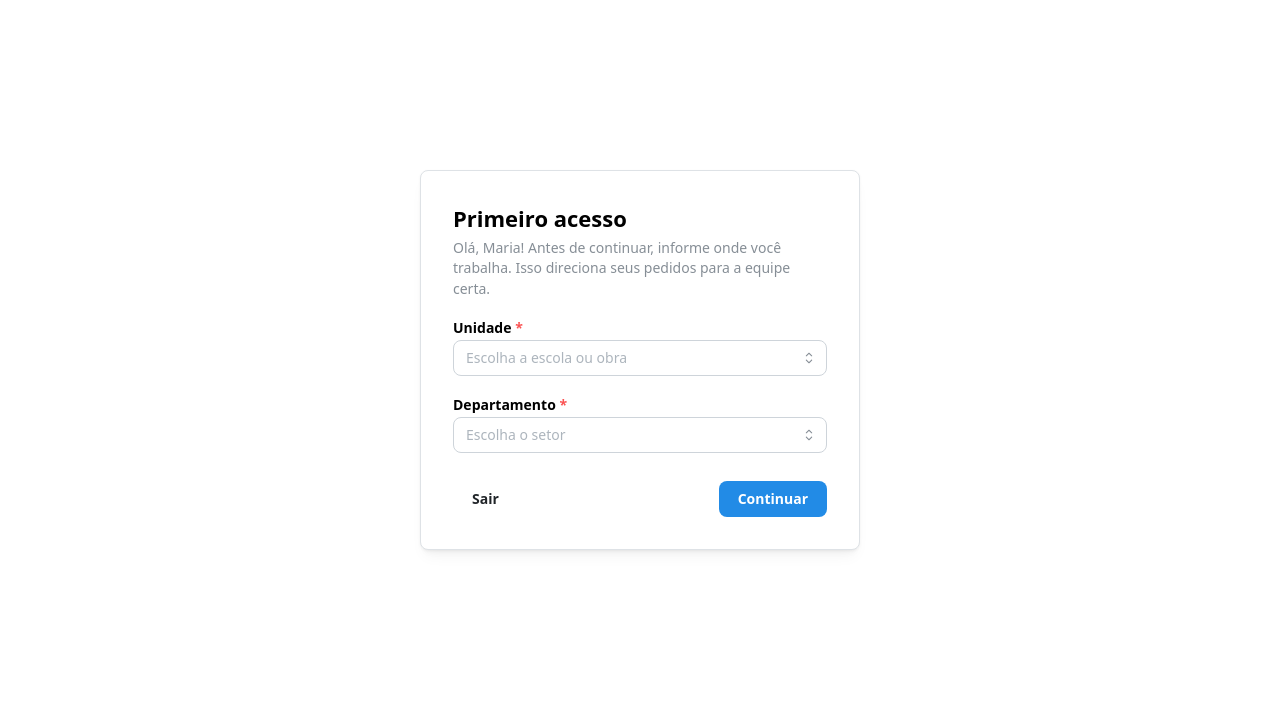
Test: Primeiro acesso (T16) › após preencher, envia PATCH /api/me e acessa o portal
Expected: the heading "Primeiro acesso" is shown, [453,203,627,233]
What coordinates should you click on to do the following:
click the dropdown labelled "Unidade *"
I would click on:
 (640, 358)
Its box is [453,340,827,376].
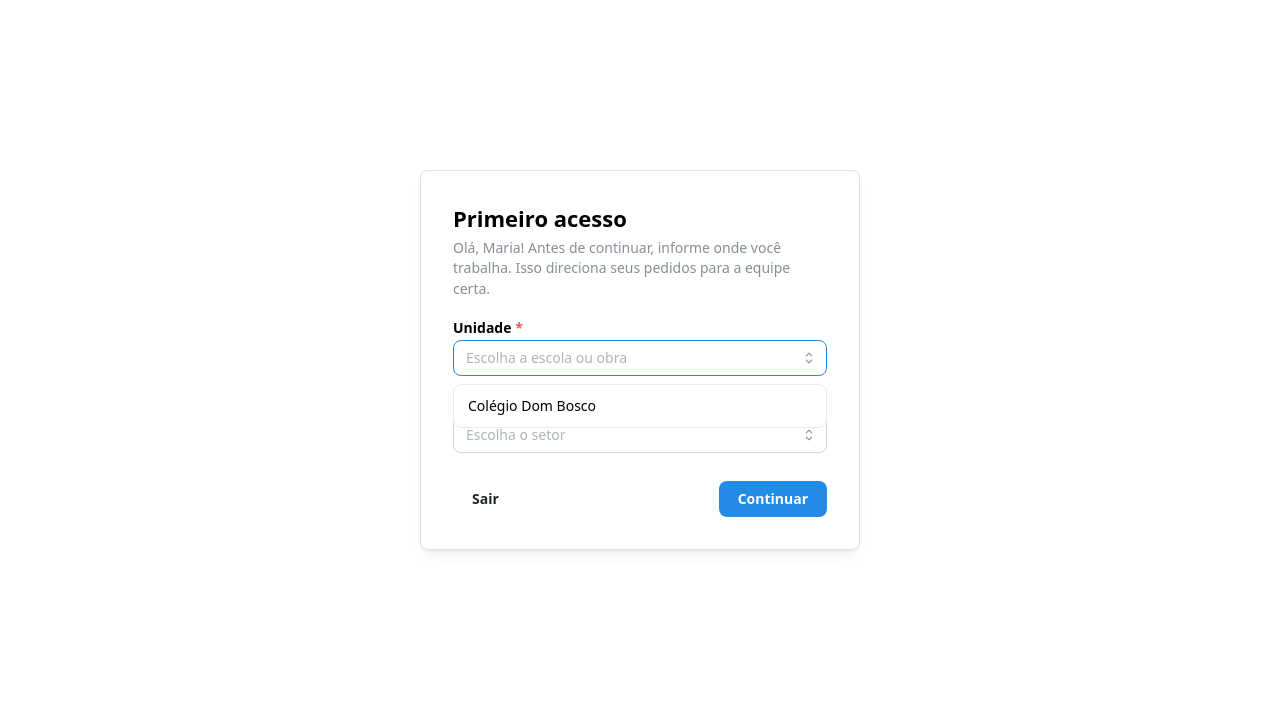
What coordinates should you click on to do the following:
click the option "Colégio Dom Bosco"
I would click on:
 (532, 405)
Its box is [468,396,596,415].
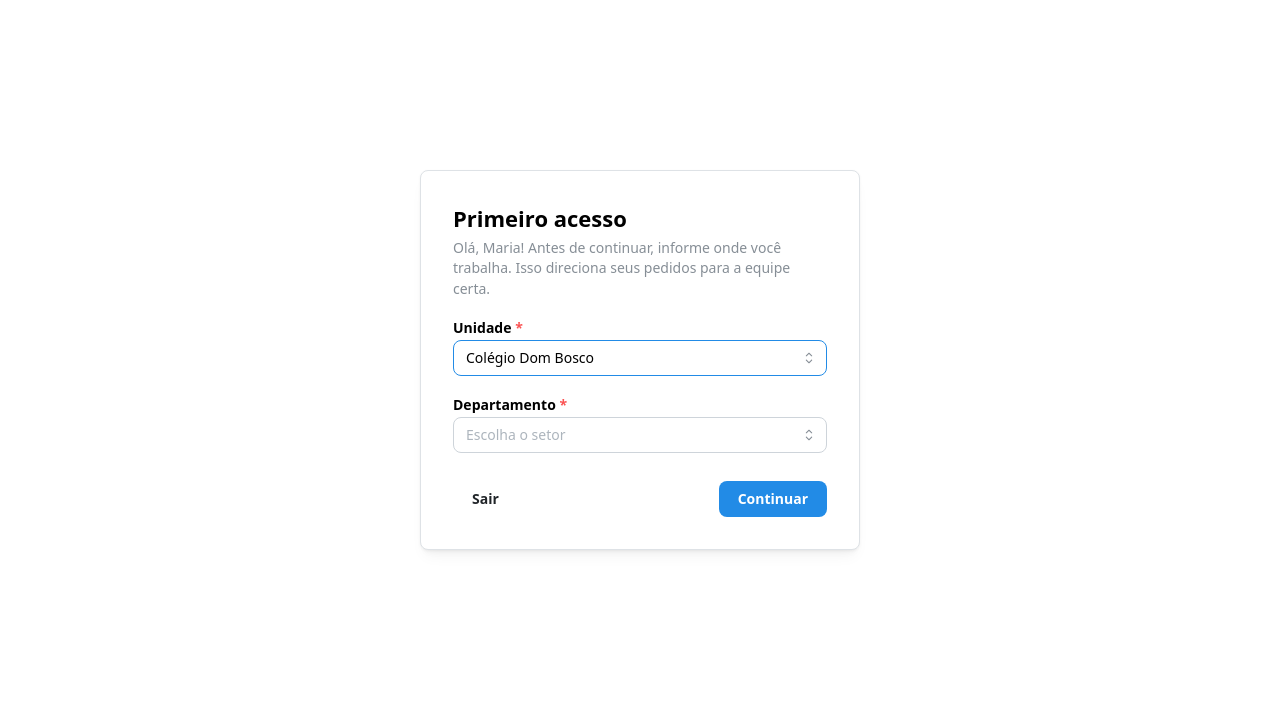
What coordinates should you click on to do the following:
click the dropdown labelled "Departamento *"
I would click on:
 (640, 435)
Its box is [453,417,827,453].
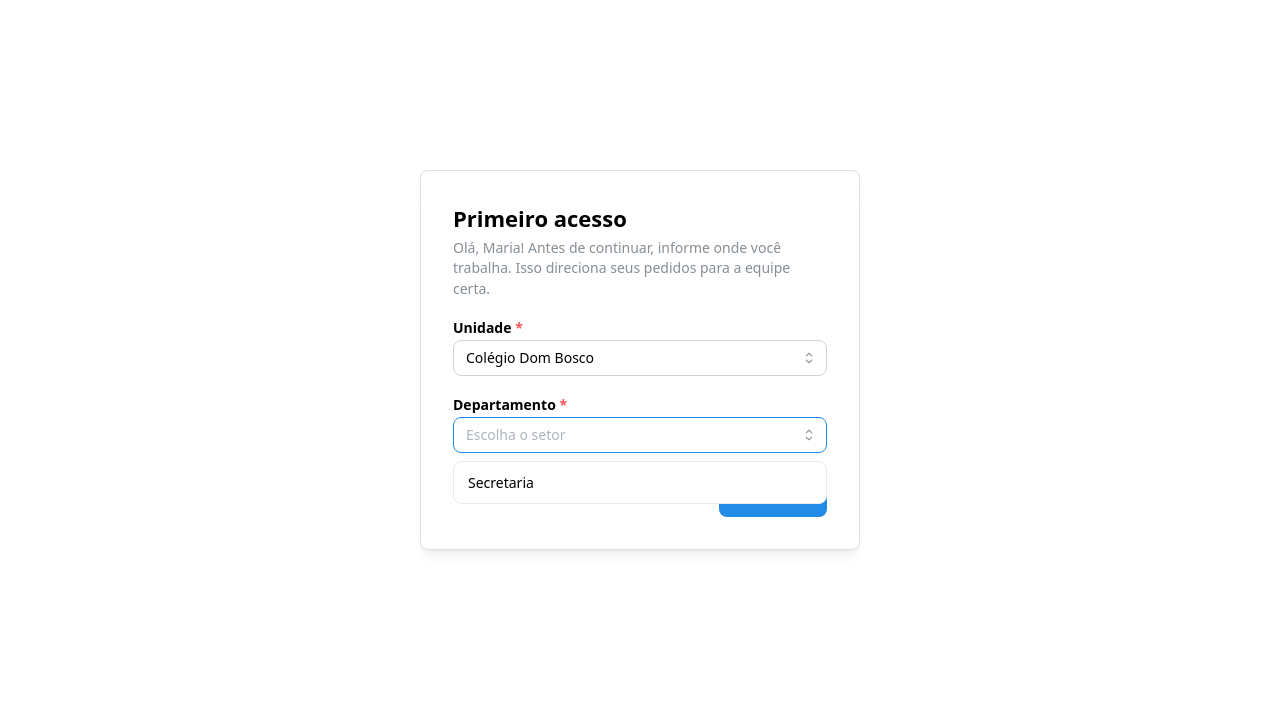
What coordinates should you click on to do the following:
click the option "Secretaria"
I would click on:
 (501, 482)
Its box is [468,473,534,492].
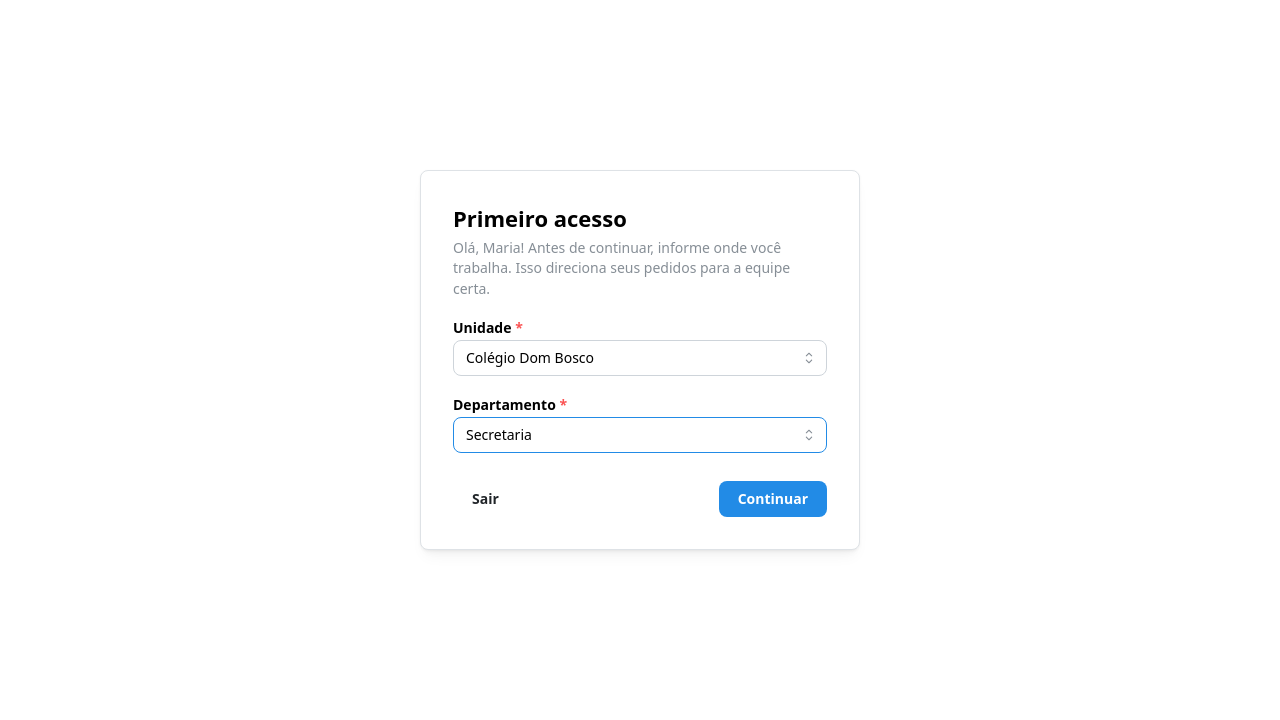
What coordinates should you click on to do the following:
click the button "Continuar"
I would click on:
 (773, 499)
Its box is [719,481,827,517].
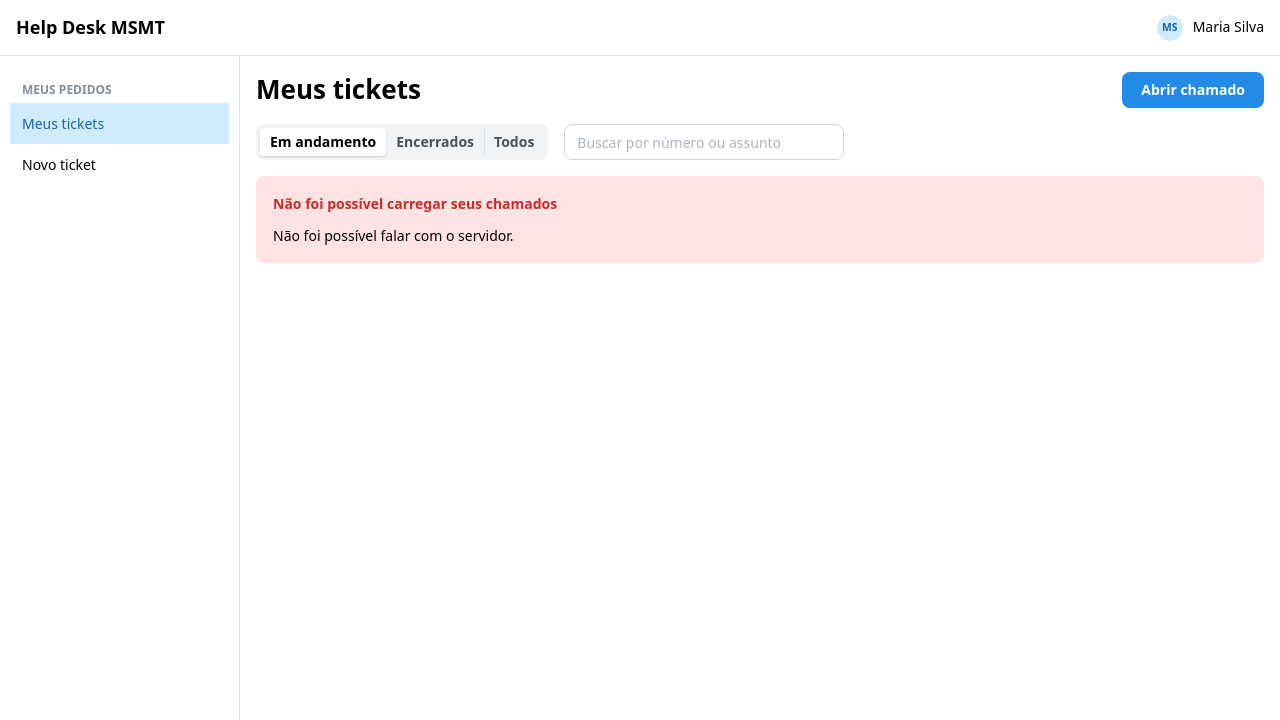
Result: the heading "Meus tickets" is shown at [256,72,421,108]
